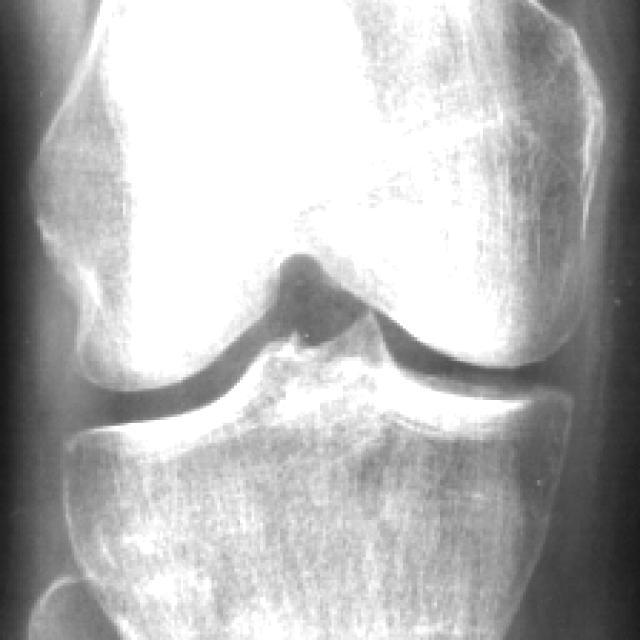femur: (28, 0, 606, 392)
tibia: (58, 316, 568, 640)
